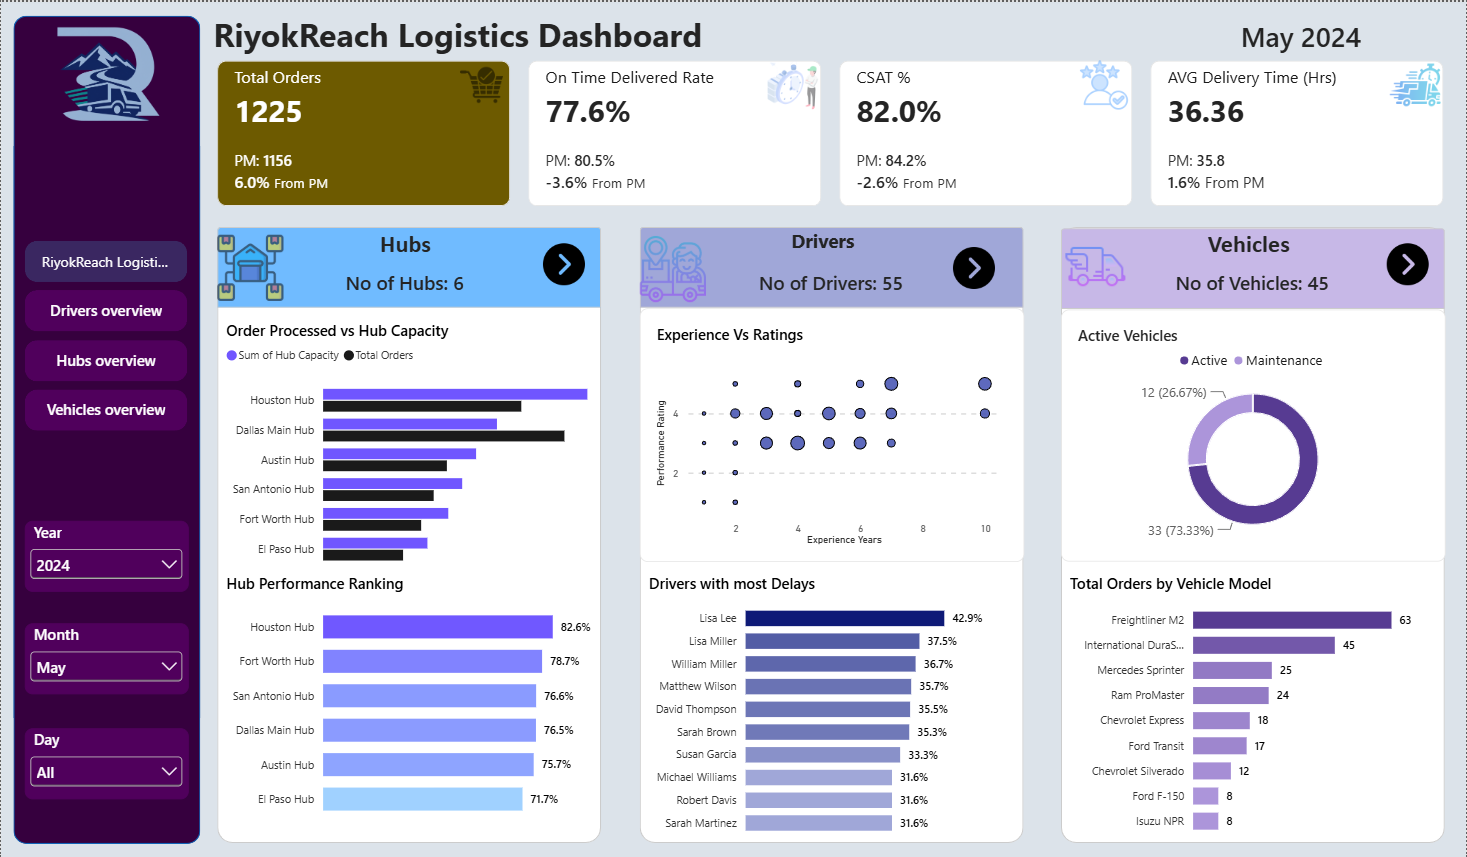

Layout of this report page (visuals, bound fields, positions):
{"tool":"powerbi","page":{"name":"RiyokReach Logistics Dashboard","canvas":[1450,850],"ordinal":0},"visuals":[{"type":"shape","box":[12.4,14,185,820],"z":0},{"type":"textbox","box":[210,10,491,43.5],"z":1000},{"type":"cardVisual","fields":{"Data":["Orders.Total Orders","Orders.On Time Delivered Rate","Orders.CSAT %","Orders.AVG Delivery Time (Hrs)"]},"box":[213.6,53.4,1216,149.5],"z":2000},{"type":"slicer","fields":{"Values":["Date Table.Year"]},"box":[24,514.2,162,70],"z":3000},{"type":"slicer","fields":{"Values":["Date Table.Month"]},"box":[24,615.7,162,70],"z":4000},{"type":"shape","box":[213.6,222.9,380,610],"z":5000},{"type":"shape","box":[213.6,222.9,380,80],"z":6000},{"type":"textbox","box":[322,224,157.5,31],"z":7000},{"type":"cardVisual","fields":{"Data":["Orders.No of Hubs"]},"box":[259,263,283,28],"z":8000},{"type":"clusteredBarChart","title":"Order Processed vs Hub Capacity","fields":{"Category":["Hubs.HubName"],"Y":["Sum(Hubs.Hub Capacity)","Orders.Total Orders"]},"box":[213.6,303,380.4,271],"z":9000},{"type":"barChart","title":"Hub Performance Ranking","fields":{"Category":["Hubs.HubName"],"Y":["Orders.On Time Delivered Rate"]},"box":[213.6,553.9,380.4,269.6],"z":10000},{"type":"shape","box":[632.7,222.9,380,610],"z":11000},{"type":"shape","box":[632.7,222.9,380,80],"z":12000},{"type":"shape","box":[1049.2,222.9,380,610],"z":13000},{"type":"shape","box":[1049.2,224.2,380,80],"z":14000},{"type":"cardVisual","fields":{"Data":["Drivers.No of Drivers"]},"box":[680.8,263,283,28],"z":15000},{"type":"textbox","box":[735,224,157,31],"z":16000},{"type":"scatterChart","title":"Experience Vs Ratings","fields":{"Size":["Sum(Drivers.Experience Years)1"],"X":["Drivers.Experience Years"],"Y":["Drivers.Performance Rating"]},"box":[632.7,303,380.4,250.9],"z":17000},{"type":"barChart","title":"Drivers with most Delays","fields":{"Category":["Drivers.DriverName"],"Y":["Orders.Delayed Delivery Rate"]},"box":[632.7,553.9,380.4,284.3],"z":18000},{"type":"cardVisual","fields":{"Data":["Vehicles.No of Vehicles"]},"box":[1097.2,263,283,28],"z":19000},{"type":"textbox","box":[1160,224,157,31],"z":20000},{"type":"donutChart","title":"Active Vehicles","fields":{"Category":["Vehicles.Vehicle Status"],"Y":["CountNonNull(Vehicles.Vehicle ID)"]},"box":[1049.2,304.3,380.4,249.6],"z":21000},{"type":"barChart","fields":{"Category":["Vehicles.Vehicle Model"],"Y":["Orders.Total Orders"]},"box":[1049.2,553.9,380.4,284.3],"z":22000},{"type":"image","box":[6.7,13.3,197.6,114.8],"z":23000},{"type":"cardVisual","fields":{"Data":["Orders.Year Month Title"]},"box":[1146.6,9.3,283,44],"z":24000},{"type":"image","box":[926.4,242.9,74.7,41.4],"z":25000},{"type":"image","box":[519.2,238.9,74.7,41.4],"z":26000},{"type":"image","box":[1354.8,238.9,74.7,41.4],"z":27000},{"type":"pageNavigator","box":[24,236.3,161.5,188.2],"z":28000},{"type":"image","box":[451,57,50,50],"z":29000},{"type":"image","box":[759,57,50,50],"z":30000},{"type":"image","box":[1067,57,50,50],"z":31000},{"type":"image","box":[1375,57.4,50,50],"z":31001},{"type":"image","box":[213.6,224.2,65.4,78.8],"z":31002},{"type":"image","box":[632.7,225.6,65.4,78.8],"z":31003},{"type":"image","box":[1050.5,222.9,65.4,78.8],"z":31004},{"type":"slicer","fields":{"Values":["Date Table.Day"]},"box":[24,719.5,162,70],"z":31005}]}

Visuals, with their boxes on the page's 1450x850 design canvas (x1, y1, x2, y2). These are canvas units, not pixel positions in the 1467x857 screenshot, which may show the page scaled, cropped or inside an application window:
shape: bbox=(12, 14, 197, 834)
textbox: bbox=(210, 10, 701, 54)
cardVisual - Orders.Total Orders x Orders.On Time Delivered Rate: bbox=(214, 53, 1430, 203)
slicer - Date Table.Year: bbox=(24, 514, 186, 584)
slicer - Date Table.Month: bbox=(24, 616, 186, 686)
shape: bbox=(214, 223, 594, 833)
shape: bbox=(214, 223, 594, 303)
textbox: bbox=(322, 224, 480, 255)
cardVisual - Orders.No of Hubs: bbox=(259, 263, 542, 291)
"Order Processed vs Hub Capacity" clusteredBarChart: bbox=(214, 303, 594, 574)
"Hub Performance Ranking" barChart: bbox=(214, 554, 594, 824)
shape: bbox=(633, 223, 1013, 833)
shape: bbox=(633, 223, 1013, 303)
shape: bbox=(1049, 223, 1429, 833)
shape: bbox=(1049, 224, 1429, 304)
cardVisual - Drivers.No of Drivers: bbox=(681, 263, 964, 291)
textbox: bbox=(735, 224, 892, 255)
"Experience Vs Ratings" scatterChart: bbox=(633, 303, 1013, 554)
"Drivers with most Delays" barChart: bbox=(633, 554, 1013, 838)
cardVisual - Vehicles.No of Vehicles: bbox=(1097, 263, 1380, 291)
textbox: bbox=(1160, 224, 1317, 255)
"Active Vehicles" donutChart: bbox=(1049, 304, 1430, 554)
barChart - Vehicles.Vehicle Model x Orders.Total Orders: bbox=(1049, 554, 1430, 838)
image: bbox=(7, 13, 204, 128)
cardVisual - Orders.Year Month Title: bbox=(1147, 9, 1430, 53)
image: bbox=(926, 243, 1001, 284)
image: bbox=(519, 239, 594, 280)
image: bbox=(1355, 239, 1430, 280)
pageNavigator: bbox=(24, 236, 186, 424)
image: bbox=(451, 57, 501, 107)
image: bbox=(759, 57, 809, 107)
image: bbox=(1067, 57, 1117, 107)
image: bbox=(1375, 57, 1425, 107)
image: bbox=(214, 224, 279, 303)
image: bbox=(633, 226, 698, 304)
image: bbox=(1050, 223, 1116, 302)
slicer - Date Table.Day: bbox=(24, 720, 186, 790)
